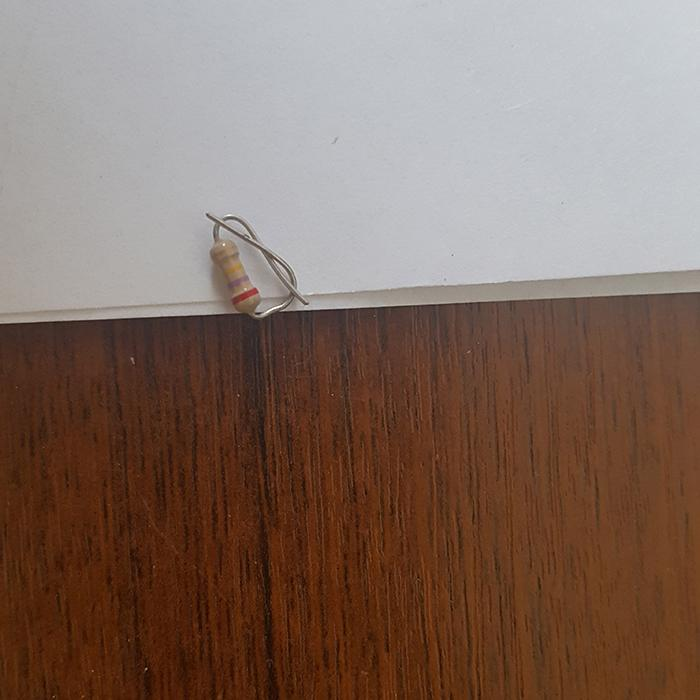resistor: (208, 235, 259, 315)
